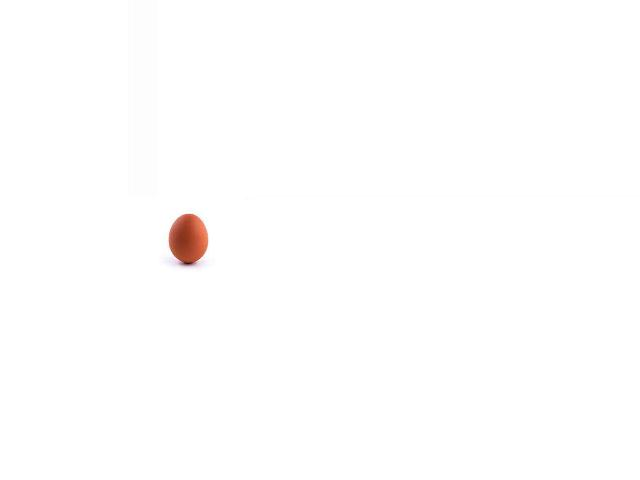egg: (167, 213, 207, 263)
